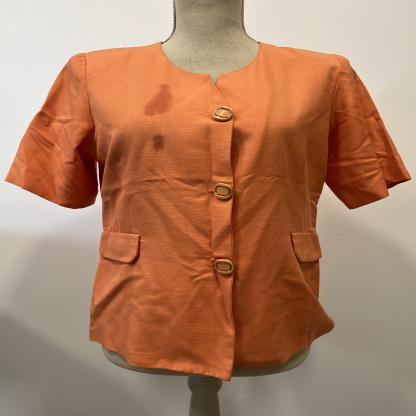stain: (138, 82, 176, 122), (150, 132, 168, 153)
